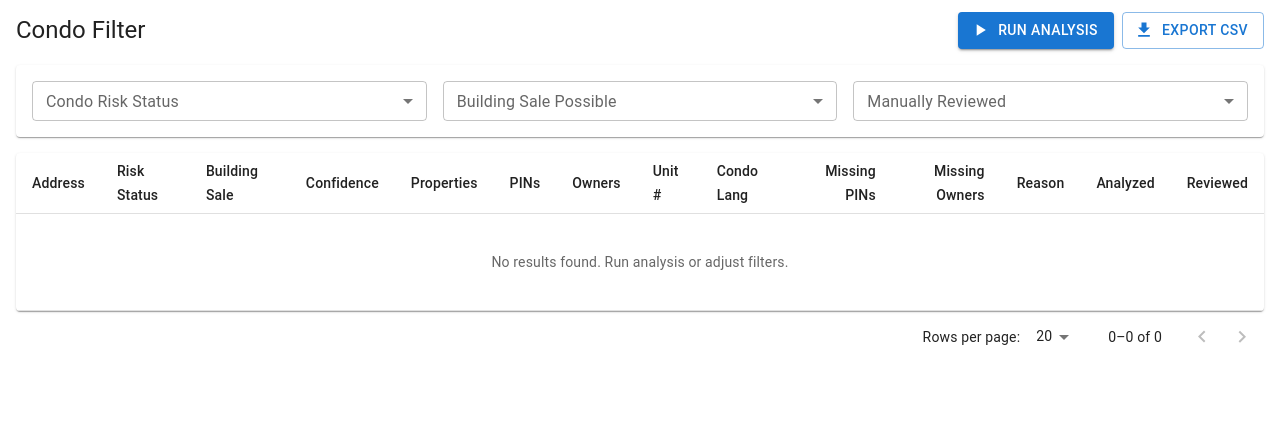
CondoReviewPage › "Run Analysis" shows error alert on failure
Click the button "Run Analysis": x=1036, y=30 [958, 12, 1114, 48]
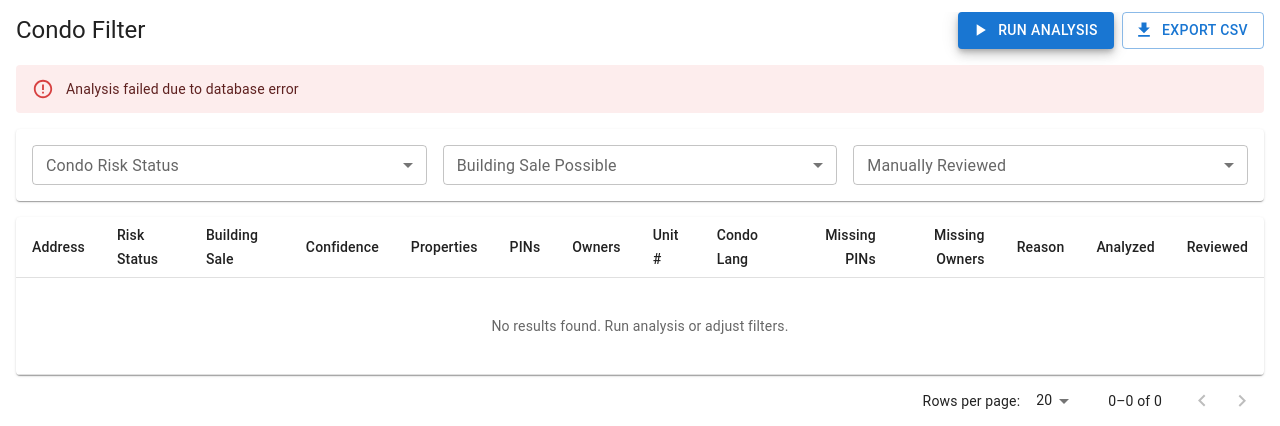
Check: the text "Analysis failed due to database error" is shown, box [66, 80, 299, 96]
